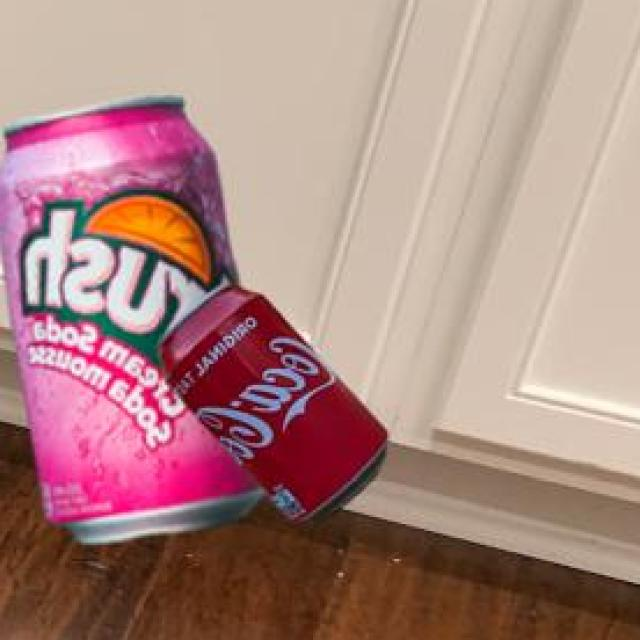logam: (0, 94, 268, 539), (161, 282, 391, 516)
